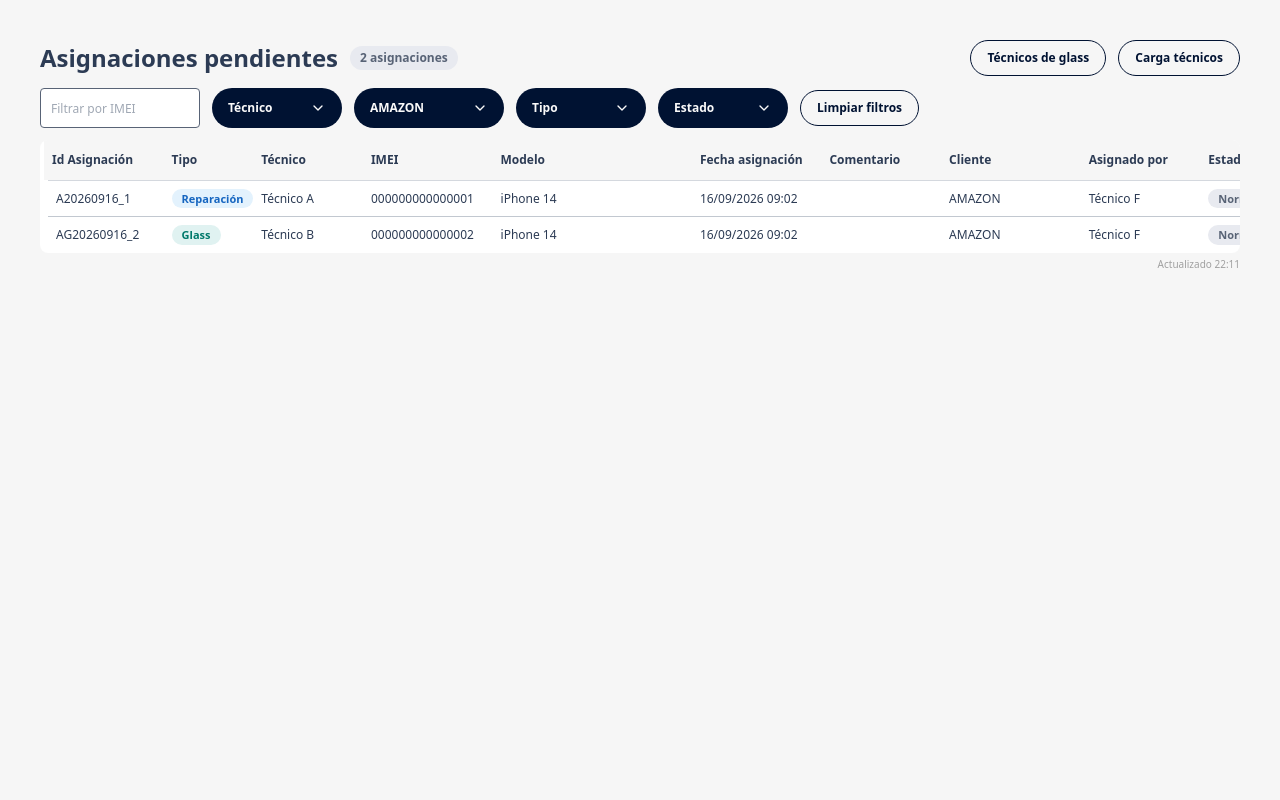
AsignacionesPage · el ADMIN entra en solo lectura › los checks de "Técnicos de glass" están deshabilitados y solo hay botón de cerrar
Expected: the text "A20260916_1" is shown, x1=44 y1=180 x2=164 y2=217
Click the button "Técnicos de glass": (1038, 58) x1=970 y1=40 x2=1106 y2=76
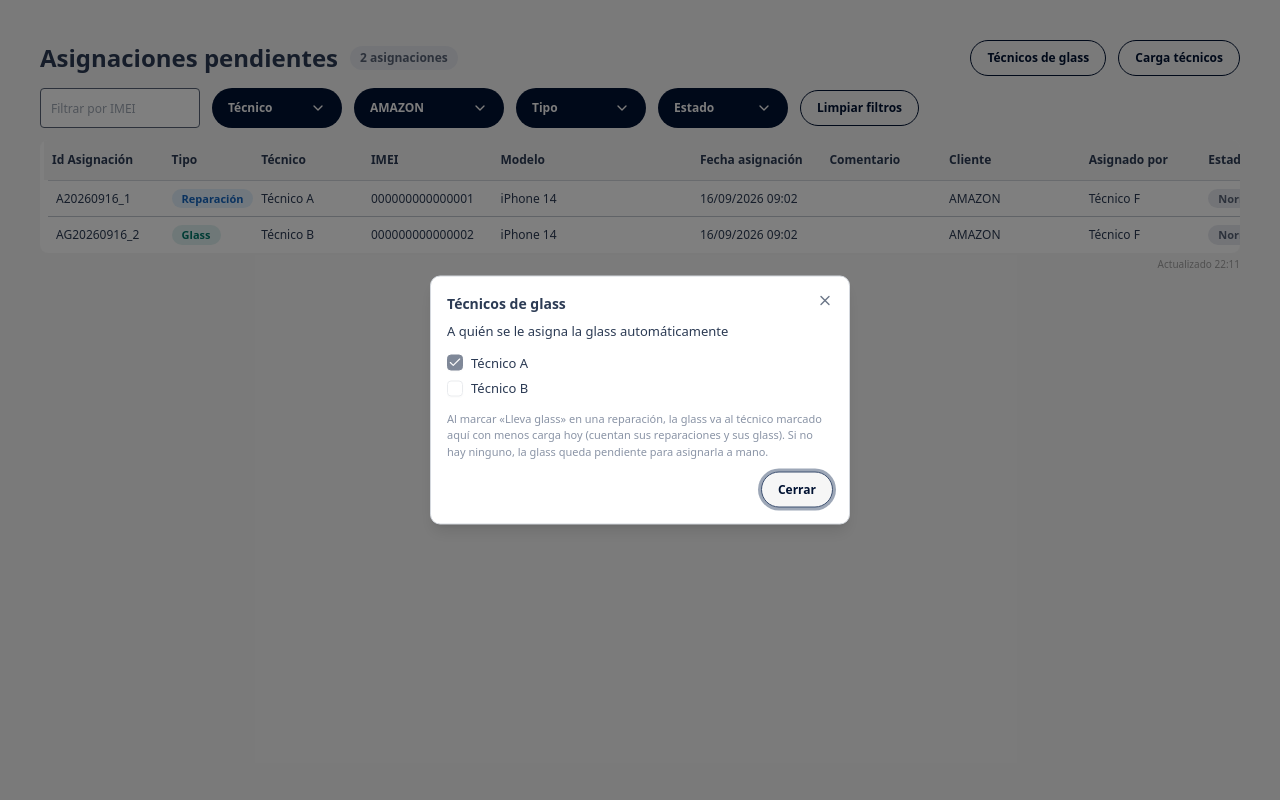
Result: the checkbox named "Técnico A" is disabled at x1=447 y1=355 x2=463 y2=371
Result: the button "Cerrar" is shown at x1=761 y1=472 x2=833 y2=508
